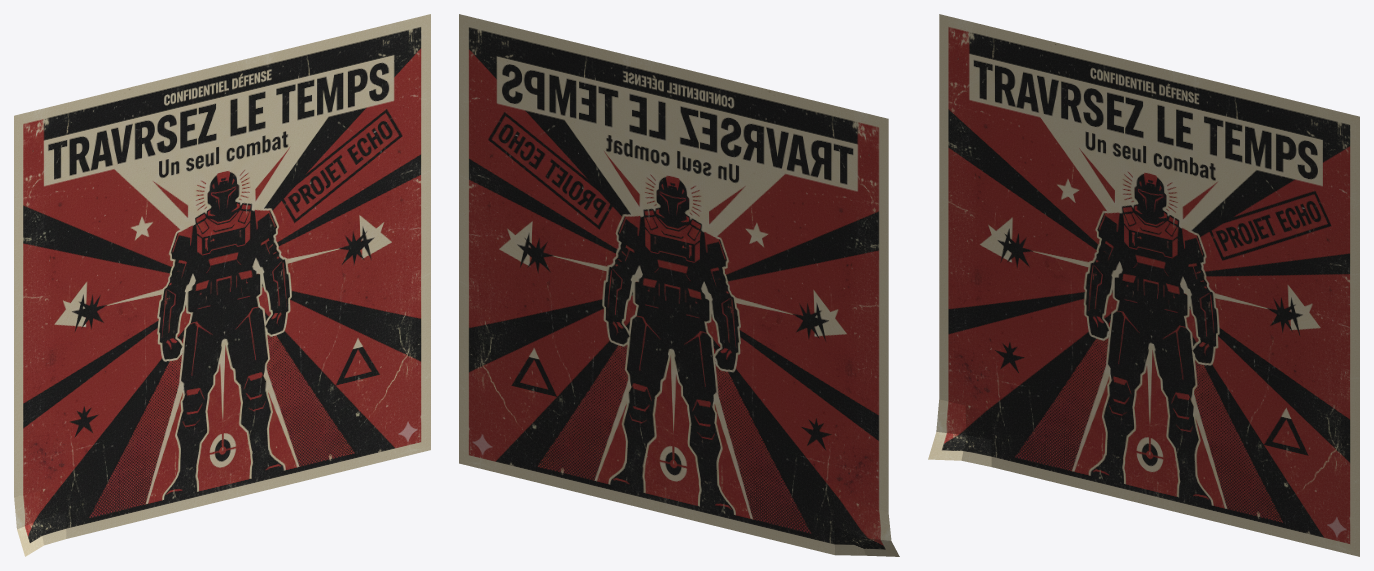
Rendered from affiche.glb.
3 views of the same model, side by side, from view 1: azimuth 30°, elevation 25°; view 2: azimuth 150°, elevation 25°; view 3: azimuth 330°, elevation 25° (orthographic). The views are drawn at different scales.
Parts seen in each view (by area): view 1: Gemini_Generated_Image_oremanoremanorem; view 2: Gemini_Generated_Image_oremanoremanorem; view 3: Gemini_Generated_Image_oremanoremanorem.
Part boxes in pixels (bbox=[...]): Gemini_Generated_Image_oremanoremanorem: bbox=[14, 14, 430, 556]; Gemini_Generated_Image_oremanoremanorem: bbox=[459, 14, 899, 556]; Gemini_Generated_Image_oremanoremanorem: bbox=[928, 14, 1359, 556].
Size of the model in its own units: 2.91 by 2.91 by 0.1454.
1 material, 1 textured.
